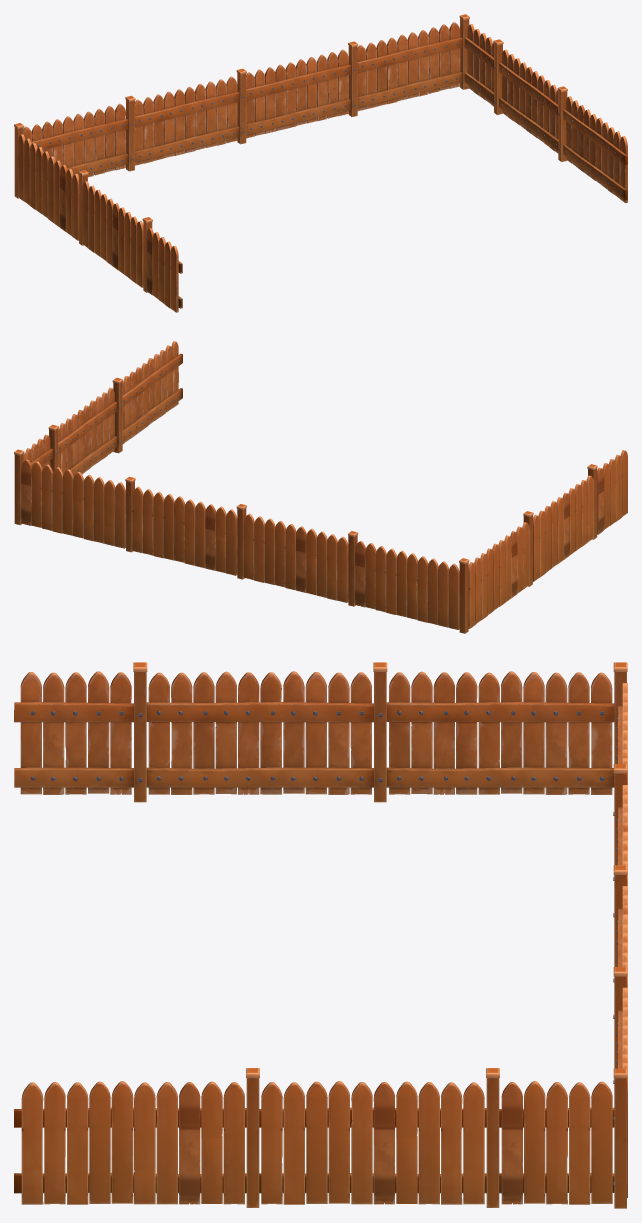
The model's file is fence.fbx.
3 views of the same model, one above another, from view 1: azimuth 30°, elevation 25°; view 2: azimuth 150°, elevation 25°; view 3: azimuth 270°, elevation 25° (orthographic). The views are drawn at different scales.
Visible parts, largest first — view 1: FENCE.018, FENCE.017, FENCE.028, FENCE.019, FENCE.015, FENCE.020, FENCE.023, FENCE.022, FENCE.021, FENCE.024; view 2: FENCE.018, FENCE.028, FENCE.019, FENCE.017, FENCE.015, FENCE.020, FENCE.023, FENCE.022, FENCE.021, FENCE.024; view 3: FENCE.023, FENCE.020, FENCE.015, FENCE.022, FENCE.021, FENCE.024, FENCE.028, FENCE.017, FENCE.019, FENCE.018.
Boxes of the visible parts, x1,y1,x2,y2 form: FENCE.018: [135, 68, 246, 165]; FENCE.017: [246, 41, 358, 138]; FENCE.028: [357, 14, 469, 111]; FENCE.019: [23, 95, 135, 177]; FENCE.015: [14, 123, 78, 240]; FENCE.020: [78, 170, 143, 287]; FENCE.023: [499, 49, 567, 161]; FENCE.022: [563, 96, 627, 203]; FENCE.021: [142, 217, 182, 312]; FENCE.024: [464, 24, 503, 114]; FENCE.018: [236, 504, 348, 602]; FENCE.028: [14, 449, 125, 548]; FENCE.019: [348, 531, 459, 629]; FENCE.017: [125, 476, 237, 575]; FENCE.015: [459, 522, 529, 633]; FENCE.020: [523, 475, 593, 586]; FENCE.023: [58, 377, 122, 476]; FENCE.022: [122, 341, 182, 444]; FENCE.021: [587, 450, 627, 539]; FENCE.024: [23, 424, 58, 471]; FENCE.023: [246, 1068, 486, 1207]; FENCE.020: [146, 662, 387, 802]; FENCE.015: [386, 662, 627, 794]; FENCE.022: [14, 1081, 246, 1204]; FENCE.021: [14, 662, 147, 802]; FENCE.024: [486, 1068, 614, 1207]; FENCE.028: [613, 987, 627, 1208]; FENCE.017: [613, 886, 627, 1083]; FENCE.019: [613, 683, 627, 880]; FENCE.018: [613, 785, 627, 982].
Size of the model in its own units: 613 by 93.6 by 386.
